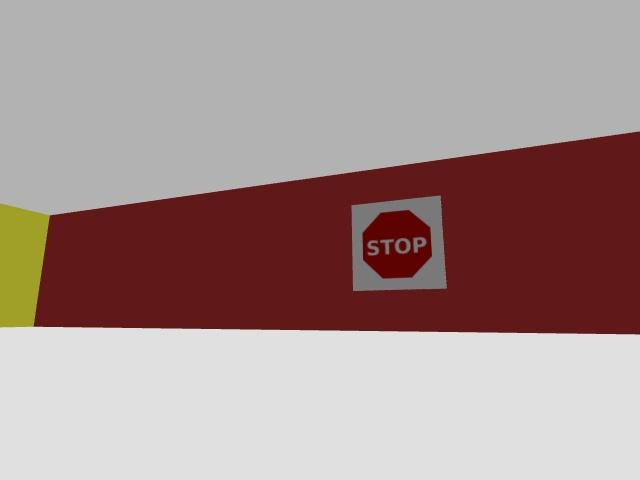stop: (352, 196, 446, 290)
